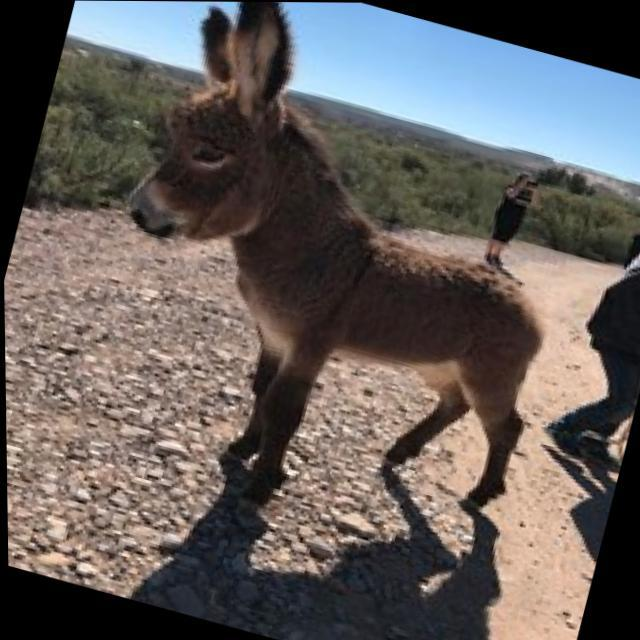Donkey: (54, 1, 619, 566)
